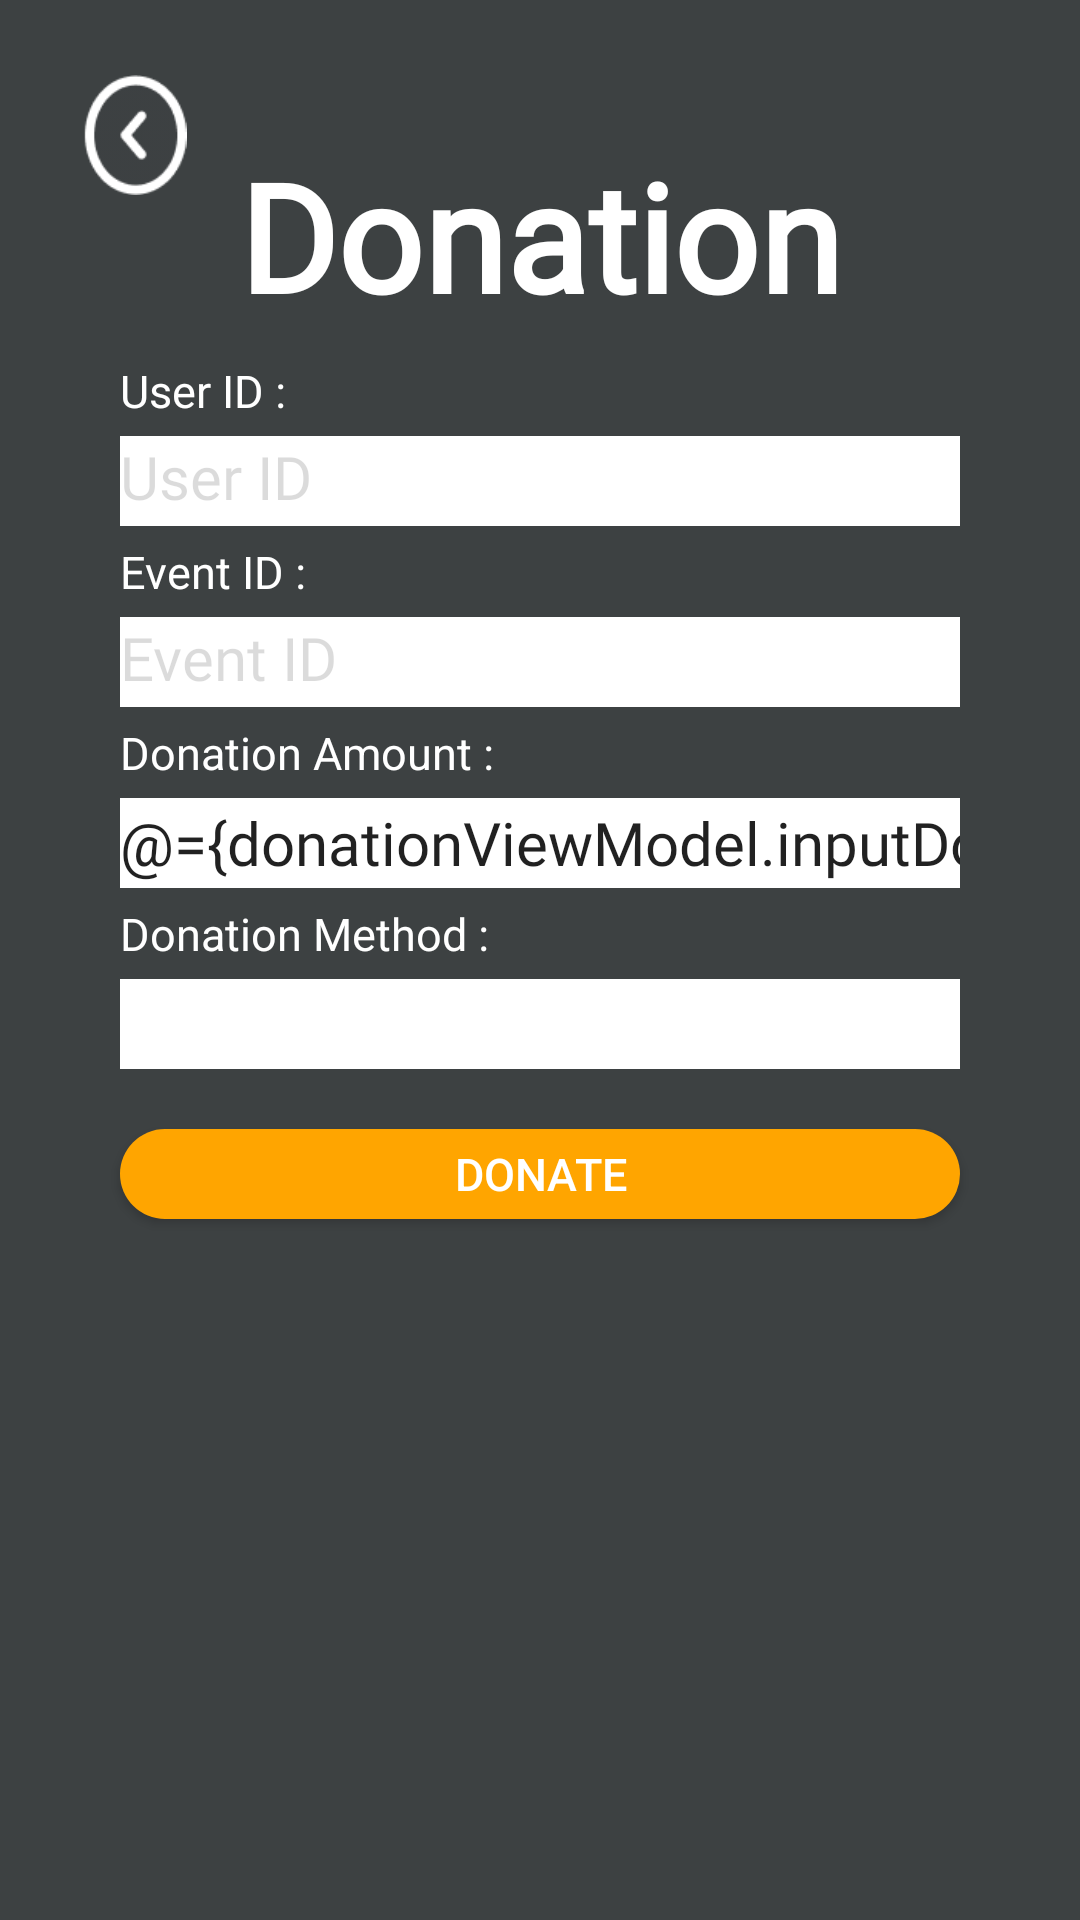

Where icons sit on this 1080 x 1920 app screen, as rect(x1, y1, x2, y2):
back: rect(84, 75, 187, 195)
